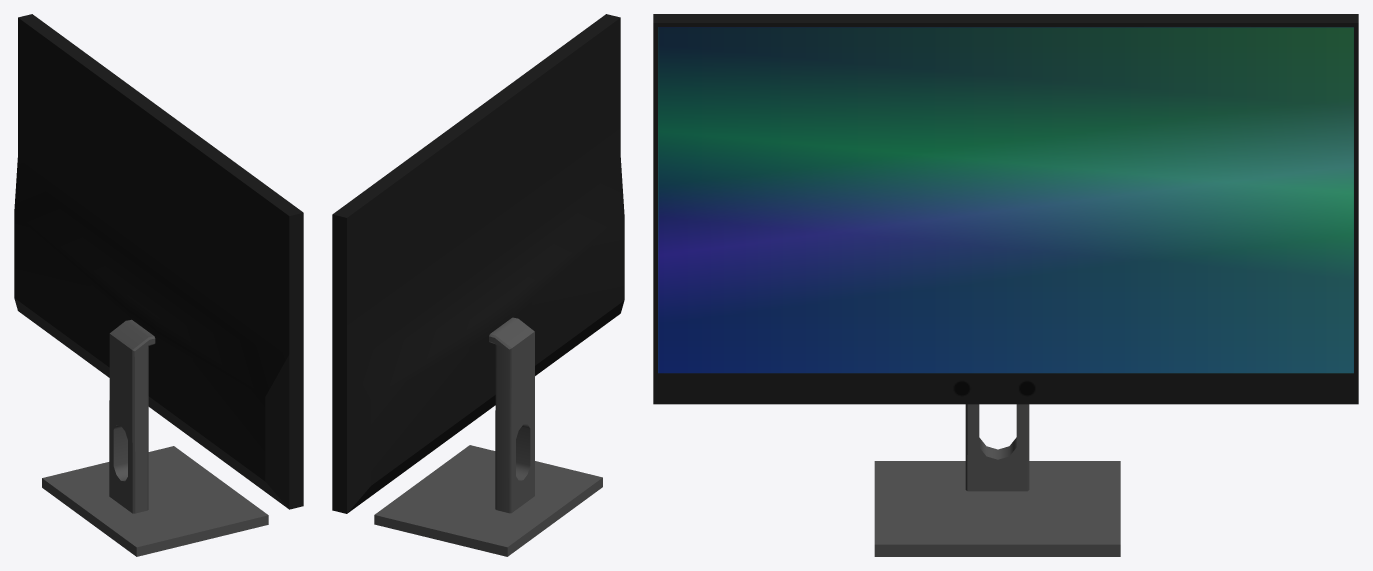
File: monitor.glb
3 views of the same model, side by side, from view 1: azimuth 30°, elevation 25°; view 2: azimuth 150°, elevation 25°; view 3: azimuth 270°, elevation 25° (orthographic). The views are drawn at different scales.
Parts seen in each view (by area): view 1: Monitor_LP; view 2: Monitor_LP; view 3: Monitor_LP.
Part boxes in pixels (x1,y1,x2,y2): Monitor_LP: [14, 14, 303, 556]; Monitor_LP: [332, 14, 624, 556]; Monitor_LP: [653, 14, 1358, 556].
Bounding box in the file's own units: 0.1778 × 0.4977 × 0.6333.
2 materials, 2 textured.
